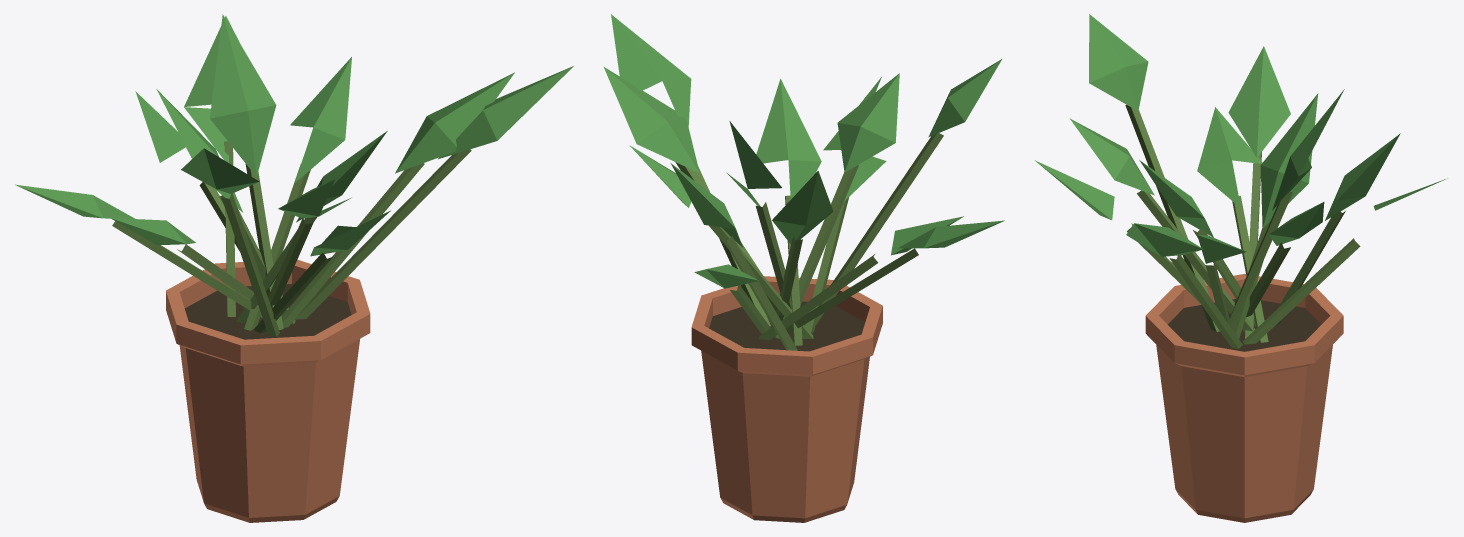
The model's file is potted-plant.glb.
3 views of the same model, side by side, from view 1: azimuth 30°, elevation 25°; view 2: azimuth 150°, elevation 25°; view 3: azimuth 270°, elevation 25° (orthographic). The views are drawn at different scales.
Visible parts, largest first — view 1: PottedPlant; view 2: PottedPlant; view 3: PottedPlant.
Boxes of the visible parts, <box> form: PottedPlant: <box>15,14,573,522</box>; PottedPlant: <box>604,14,1004,522</box>; PottedPlant: <box>1034,14,1447,522</box>.
Size of the model in its own units: 0.8035 by 0.6919 by 0.6301.
